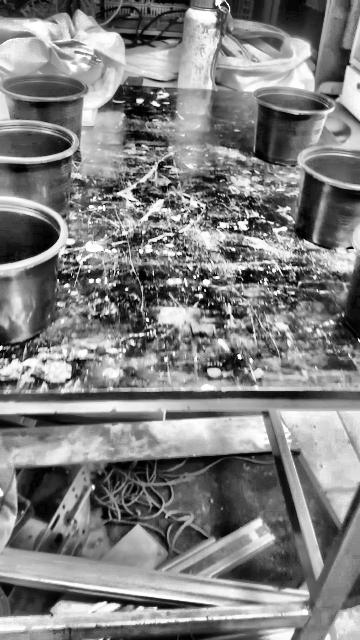pot: (0, 200, 65, 343), (0, 120, 78, 217), (295, 148, 360, 251), (253, 87, 335, 165), (0, 75, 88, 142), (344, 226, 359, 338), (101, 518, 136, 547)
